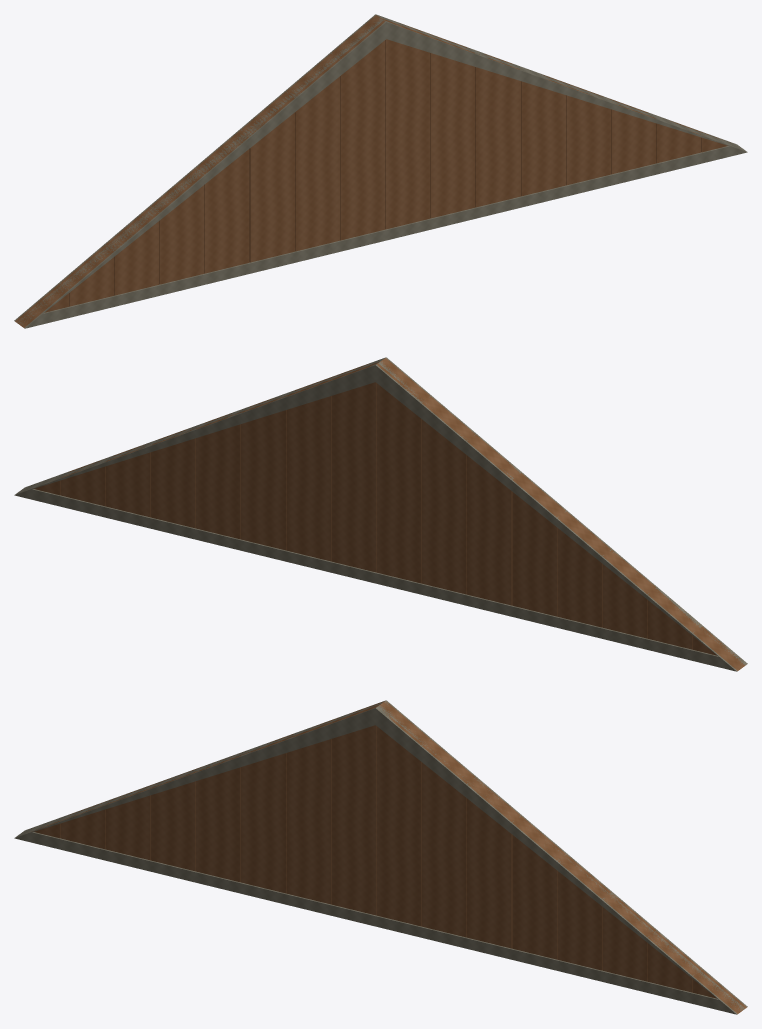
The model's file is MRP_Gable_Wood_4m.fbx.
The picture shows the model from 3 angles, top to bottom: view 1: azimuth 30°, elevation 25°; view 2: azimuth 150°, elevation 25°; view 3: azimuth 330°, elevation 25°; orthographic projection.
Parts seen in each view (by area): view 1: Body; view 2: Body; view 3: Body.
Part boxes in pixels (x1,y1,x2,y2): Body: [14, 14, 747, 328]; Body: [14, 357, 747, 671]; Body: [14, 700, 747, 1014].
Bounding box in the file's own units: 4 × 1.15 × 0.104.
